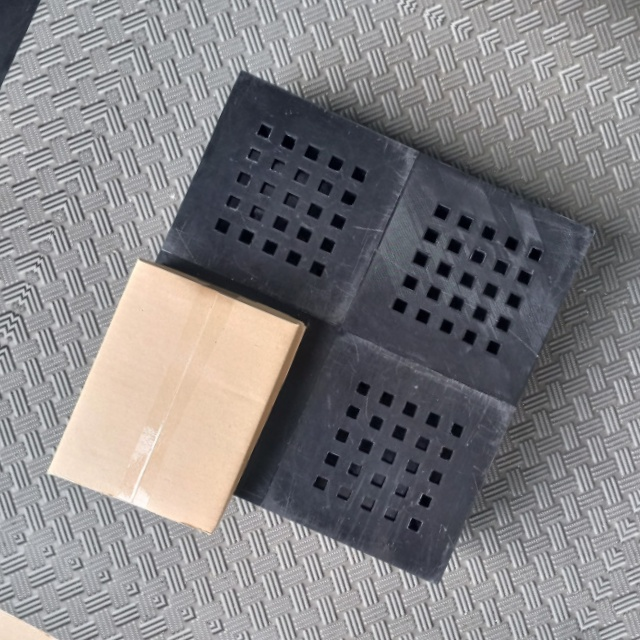box: (44, 255, 305, 538)
pallet: (79, 64, 600, 589)
